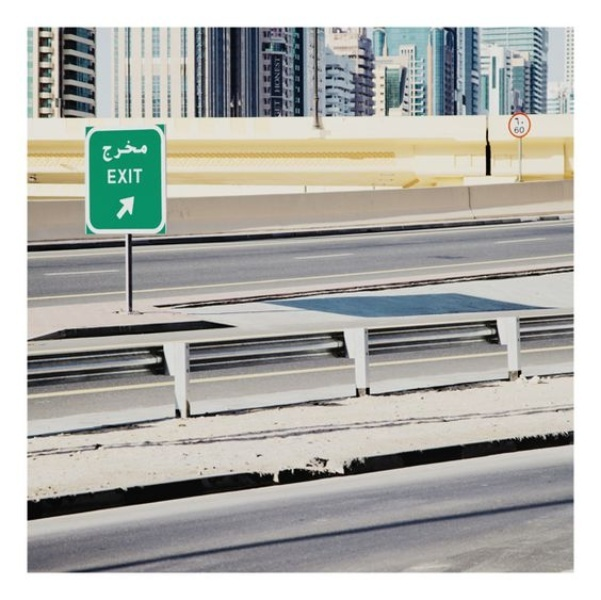text: (113, 139, 128, 164), (129, 139, 144, 164), (129, 167, 145, 186), (113, 167, 128, 186), (104, 139, 112, 164), (514, 126, 528, 135), (145, 139, 150, 164), (513, 117, 525, 126), (107, 167, 112, 186), (511, 117, 512, 126)
